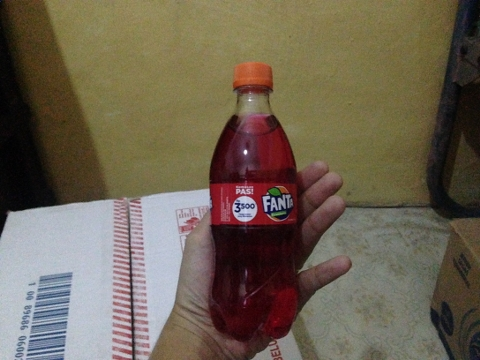tempat minum: (209, 63, 297, 341)
